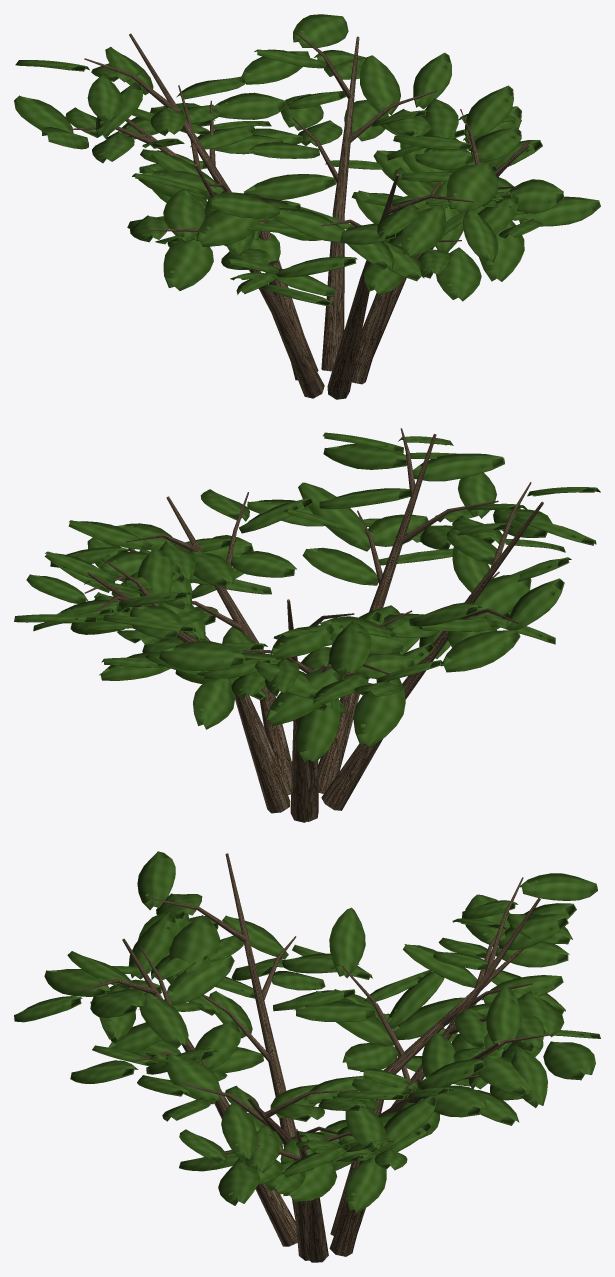
File: shrub_low.fbx
3 renders of one model, top to bottom at view 1: azimuth 30°, elevation 25°; view 2: azimuth 150°, elevation 25°; view 3: azimuth 270°, elevation 25°, orthographic. The views are drawn at different scales.
Parts seen in each view (by area): view 1: shrub_low; view 2: shrub_low; view 3: shrub_low.
Boxes of the visible parts, left/top/right/bottom form: shrub_low: left=14, top=14, right=600, bottom=399; shrub_low: left=14, top=428, right=600, bottom=822; shrub_low: left=14, top=851, right=600, bottom=1262.
Size of what is drawn, in the model's own units: 1.07 by 0.6958 by 1.21.
Materials: 1 (1 with a texture image).
